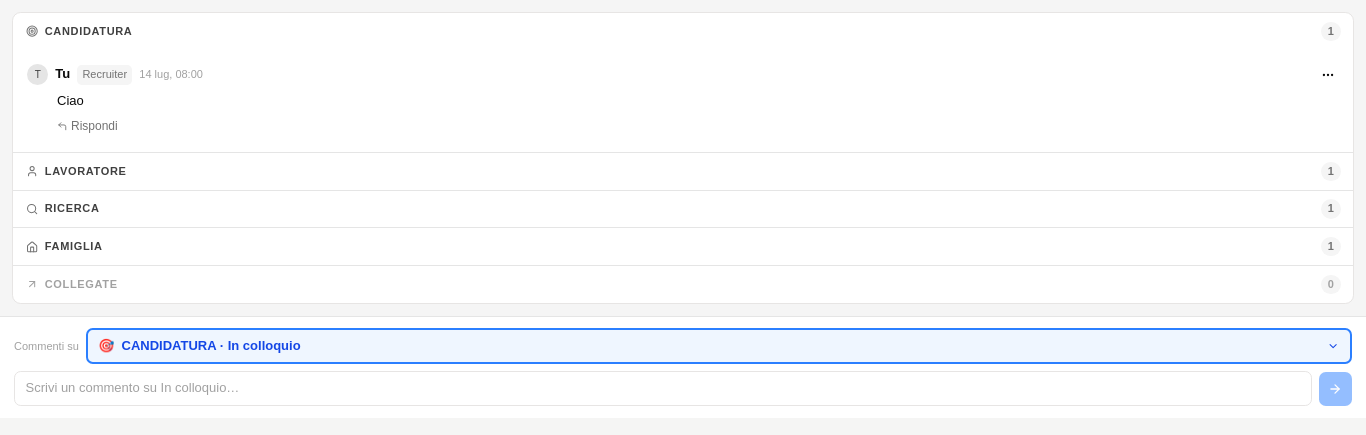
Comment phase note rendering › shows edit in the author menu but not delete
Click the button with test id "comments-menu-mine-1" at [1328, 75], box [1318,64,1339,85]
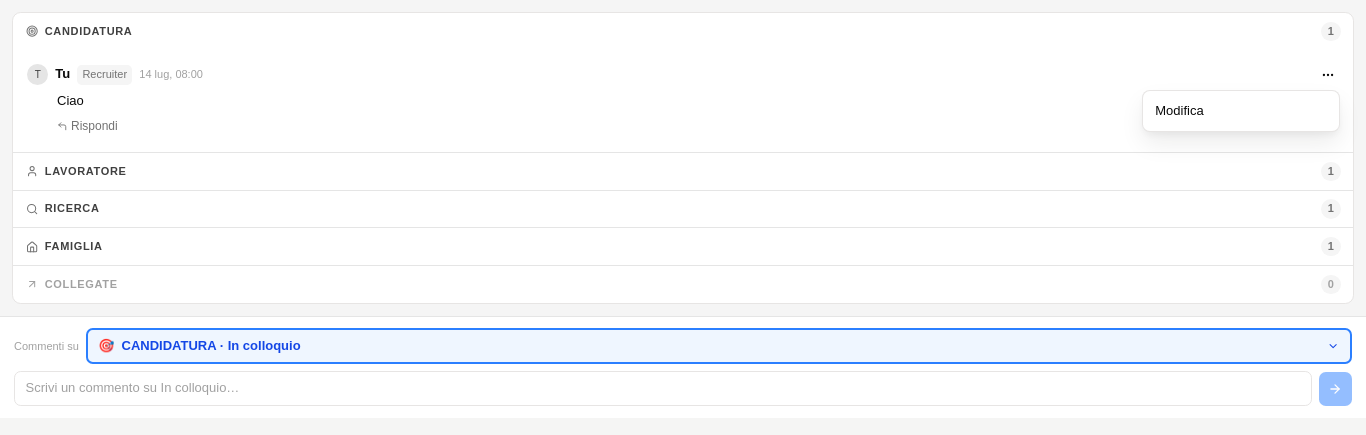
Expected: the menu item with test id "comments-edit-mine-1" is shown, [1155,102,1204,118]
